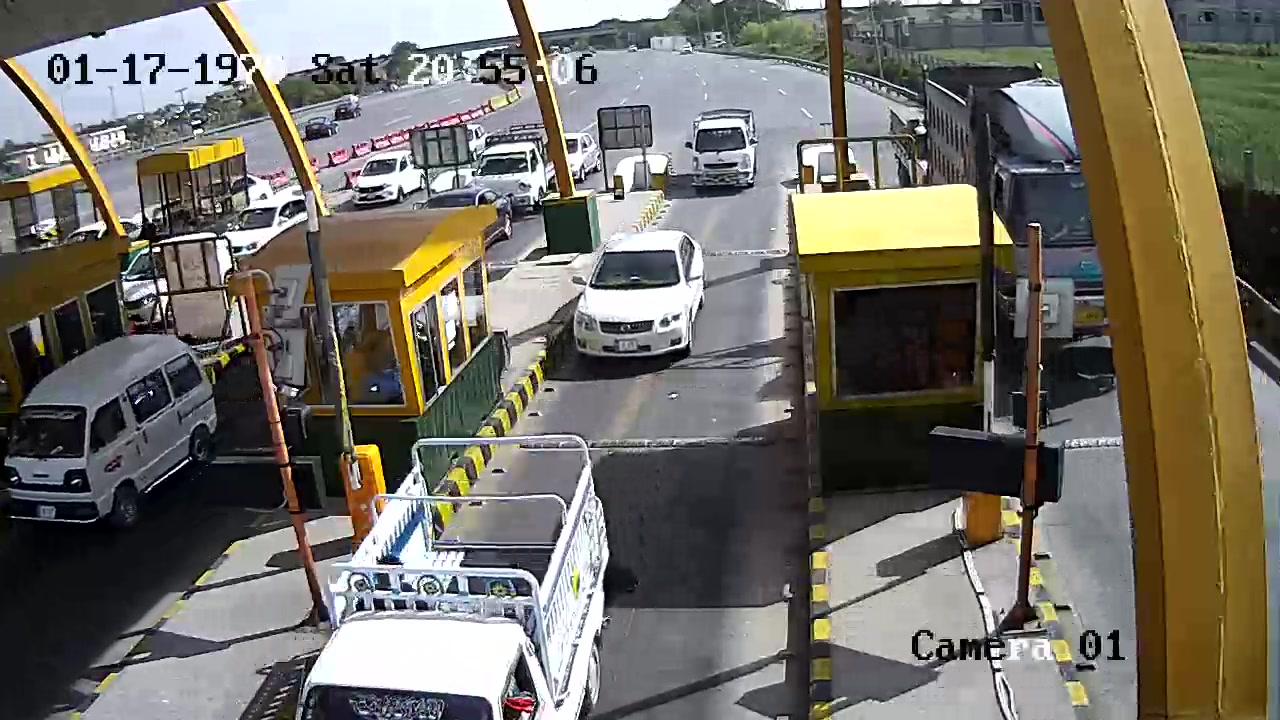F1: (564, 229, 715, 371)
